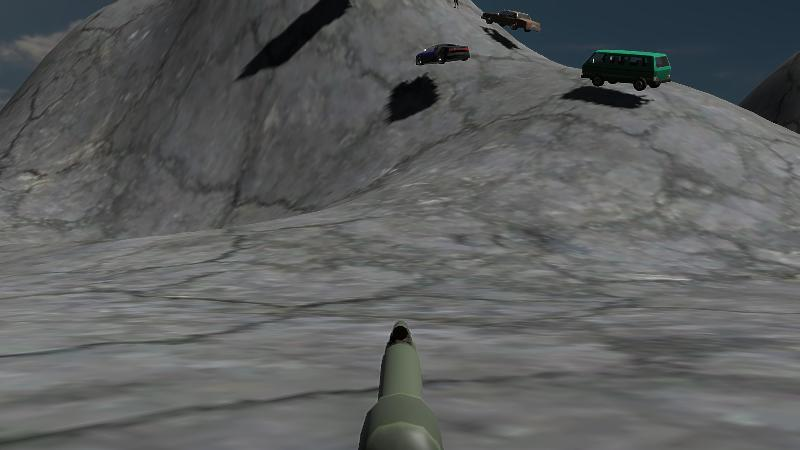car: (581, 50, 672, 91), (481, 8, 541, 33), (416, 42, 471, 68)
